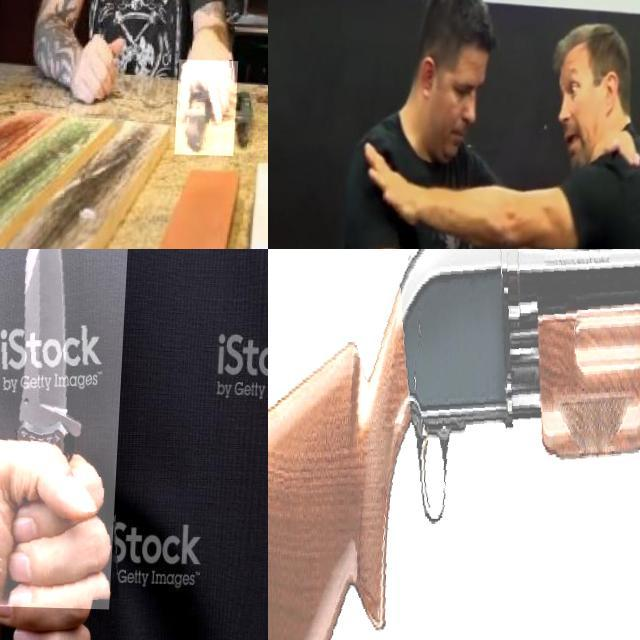-: (0, 249, 132, 607), (180, 58, 243, 154)
gun-knife-thesis - v11 Yolov5 augmented: (268, 249, 640, 640)
